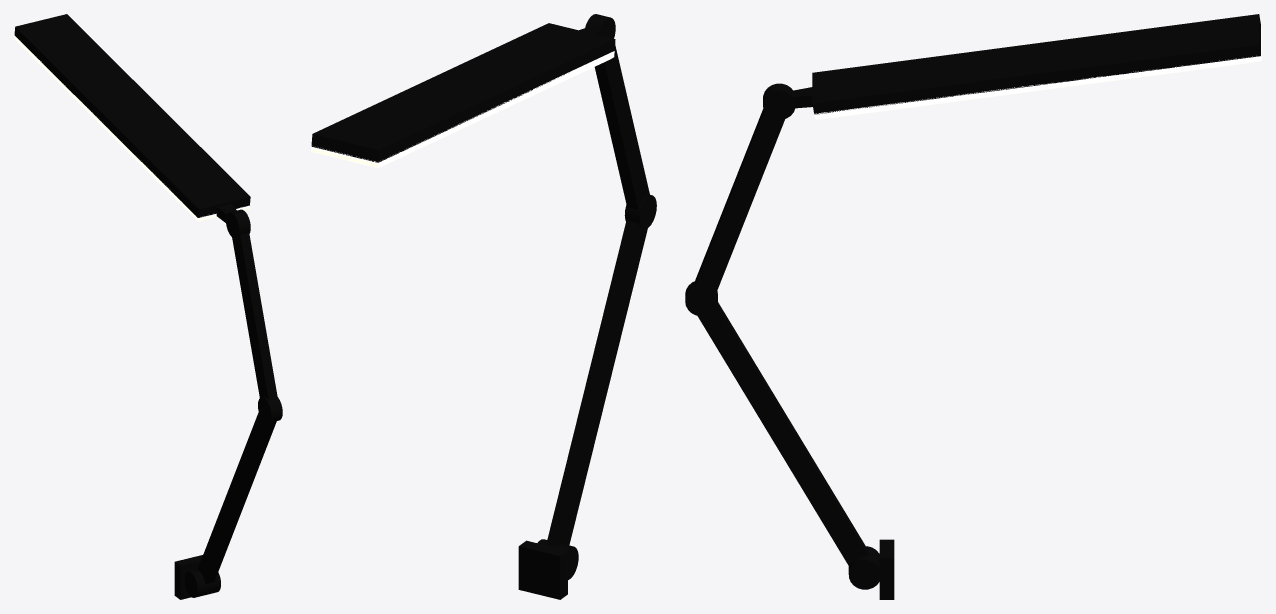
File: LamparaMesa.fbx
3 views of the same model, side by side, from view 1: azimuth 30°, elevation 25°; view 2: azimuth 150°, elevation 25°; view 3: azimuth 270°, elevation 25° (orthographic). The views are drawn at different scales.
Visible parts, largest first — view 1: pCube53, pCube47, pCube48, pCylinder5, pCube46, pCylinder7, pCylinder6; view 2: pCube53, pCube47, pCube48, pCube46, pCylinder6, pCylinder7; view 3: pCube53, pCube47, pCube48, pCylinder5, pCylinder7, pCube46, pCylinder6.
Part boxes in pixels (box(x1,y1,x2,y2)): pCube53: box(14, 14, 250, 222); pCube47: box(197, 412, 276, 584); pCube48: box(232, 232, 277, 400); pCylinder5: box(185, 569, 220, 597); pCube46: box(174, 555, 202, 599); pCylinder7: box(226, 209, 250, 238); pCylinder6: box(258, 396, 282, 423); pCube53: box(311, 23, 615, 167); pCube47: box(546, 220, 647, 547); pCube48: box(594, 45, 649, 209); pCube46: box(518, 540, 567, 599); pCylinder6: box(624, 195, 656, 228); pCylinder7: box(585, 14, 615, 38); pCube53: box(793, 14, 1261, 119); pCube47: box(697, 302, 868, 566); pCube48: box(694, 108, 784, 293); pCylinder5: box(848, 546, 879, 589); pCylinder7: box(763, 83, 795, 119); pCube46: box(879, 539, 894, 599); pCylinder6: box(685, 281, 717, 316).
Size of the model in its own units: 0.4545 by 3.87 by 3.6.
